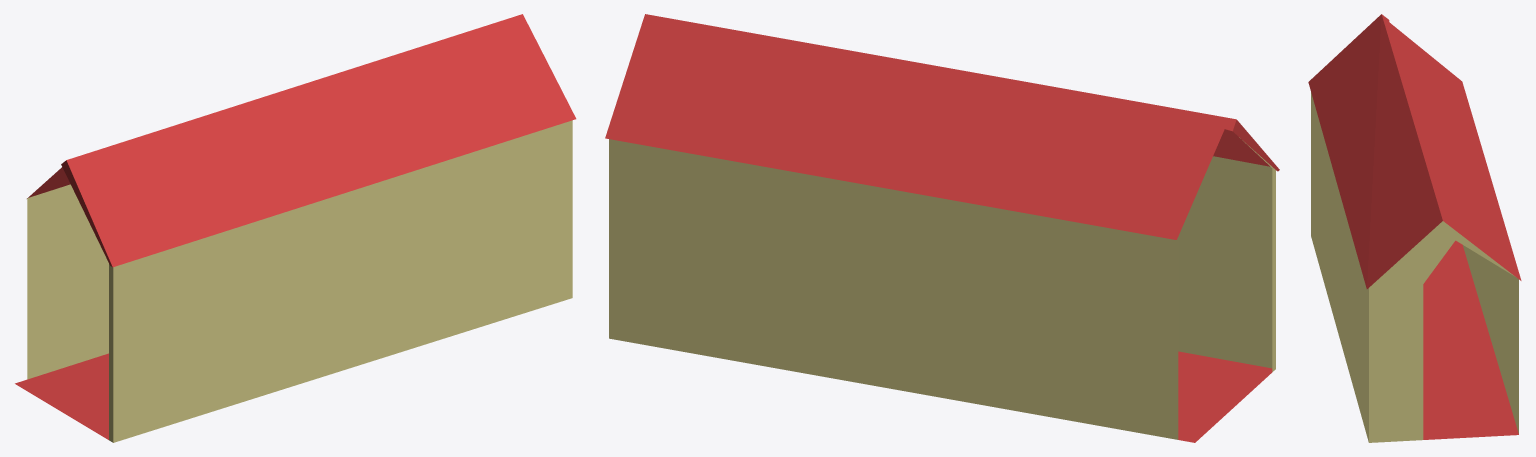
3 views of the same model, side by side, from view 1: azimuth 30°, elevation 25°; view 2: azimuth 150°, elevation 25°; view 3: azimuth 270°, elevation 25° (orthographic). The views are drawn at different scales.
Size of the model in its own units: 55.66 by 23.44 by 26.57.
